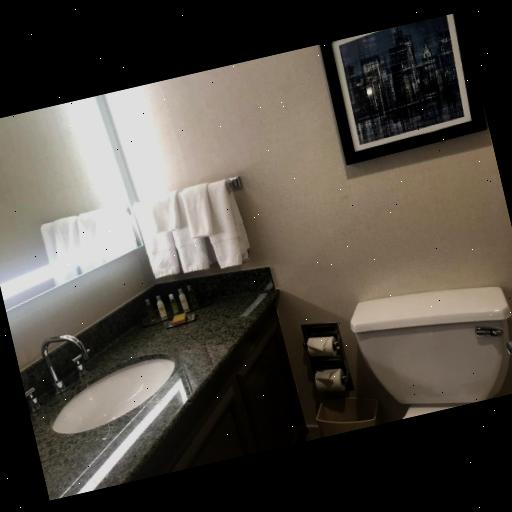clean mirror: (0, 93, 161, 302)
clean_sink: (23, 269, 281, 497)
folded_towel: (128, 175, 246, 286)
